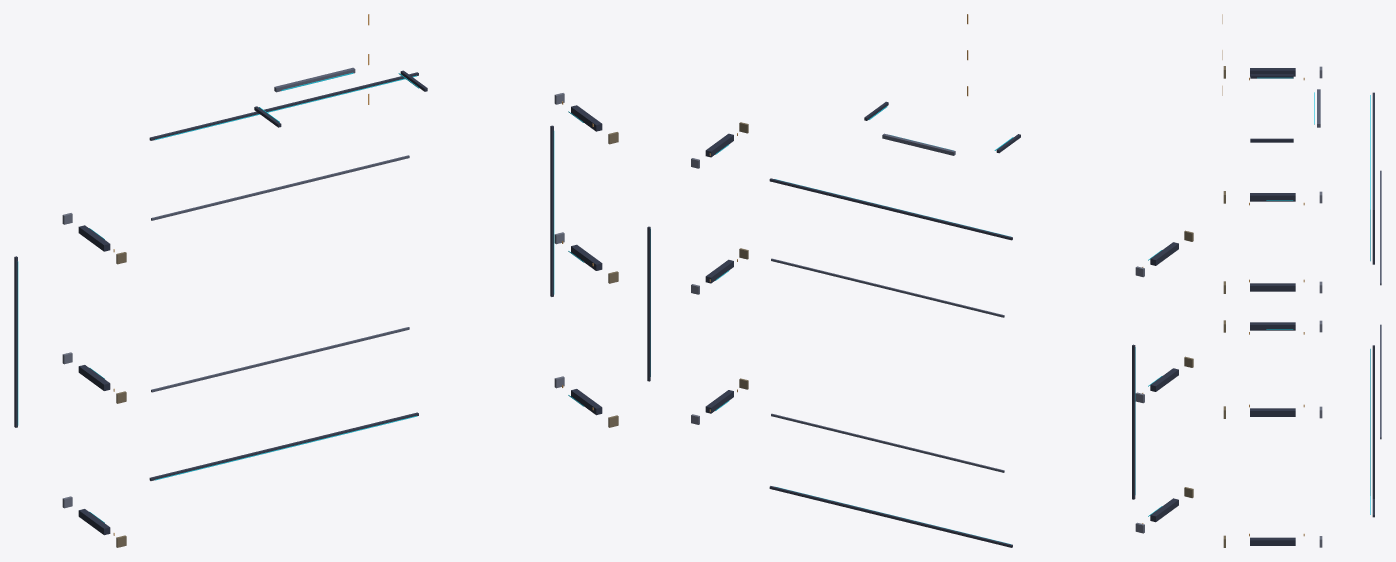
Rendered from neon-modern-maze-accents-20261110.fbx.
3 renders of one model, left to right at view 1: azimuth 30°, elevation 25°; view 2: azimuth 150°, elevation 25°; view 3: azimuth 270°, elevation 25°, orthographic. The views are drawn at different scales.
Parts seen in each view (by area): view 1: Canopy Rail North, Canopy Rail South, Canopy Crossbeam A, Canopy Crossbeam B; view 2: Canopy Rail North, Canopy Rail South, Canopy Crossbeam A, Canopy Crossbeam B; view 3: Canopy Rail East, Pylon East Mid Body, Pylon East North Body, Pylon East South Body, Pylon West Mid Body, Pylon West North Body, Canopy Rail South, Pylon West South Body, Canopy Crossbeam A, Canopy Crossbeam B, Gateway East Post, Gateway West Post.
Part boxes in pixels (x1,y1,x2,y2): Canopy Rail North: (149,412,418,480); Canopy Rail South: (149,72,418,140); Canopy Crossbeam A: (151,327,409,392); Canopy Crossbeam B: (151,155,409,220); Canopy Rail North: (769,486,1012,547); Canopy Rail South: (769,178,1012,240); Canopy Crossbeam A: (771,413,1004,472); Canopy Crossbeam B: (771,258,1004,317); Canopy Rail East: (1372,345,1374,498); Pylon East Mid Body: (1250,408,1295,416); Pylon East North Body: (1250,537,1295,545); Pylon East South Body: (1250,283,1295,291); Pylon West Mid Body: (1250,193,1295,201); Pylon West North Body: (1250,322,1295,330); Canopy Rail South: (1372,92,1374,212); Pylon West South Body: (1250,68,1295,76); Canopy Crossbeam A: (1380,324,1381,439); Canopy Crossbeam B: (1380,170,1381,285); Gateway East Post: (1250,138,1293,142); Gateway West Post: (1250,74,1293,78).
Size of the model in its own units: 18.38 by 16.17 by 5.25.
